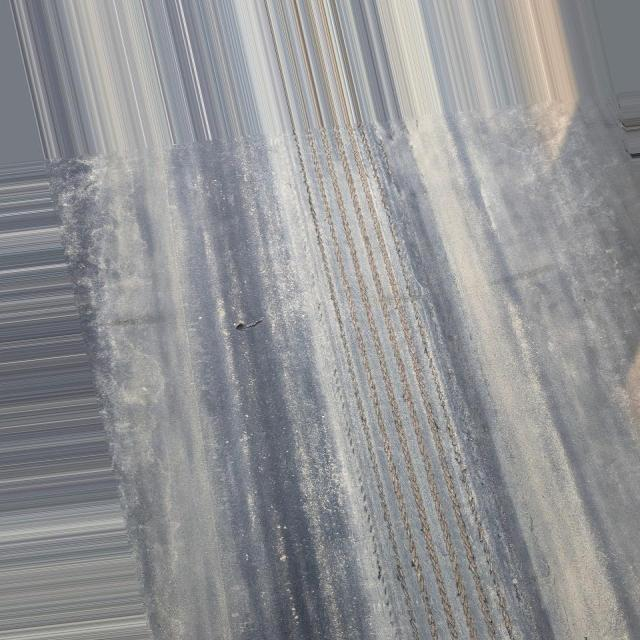Tear: (226, 314, 267, 338)
Wear: (250, 1, 552, 640)
